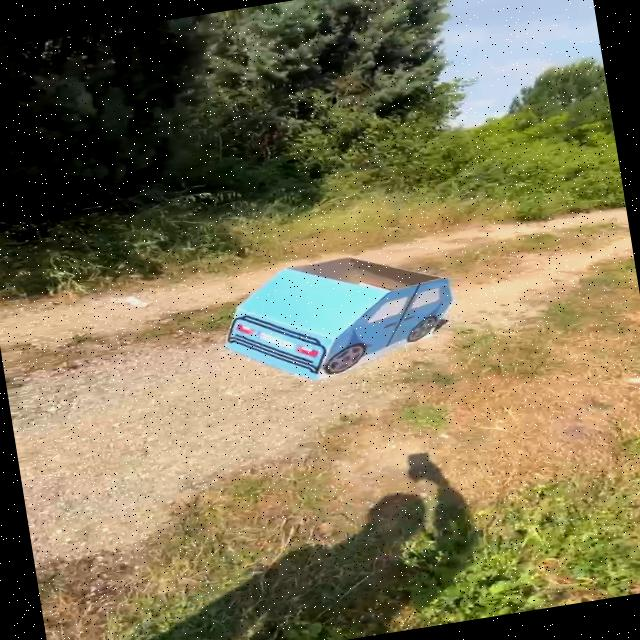blue_car: (178, 230, 492, 408)
